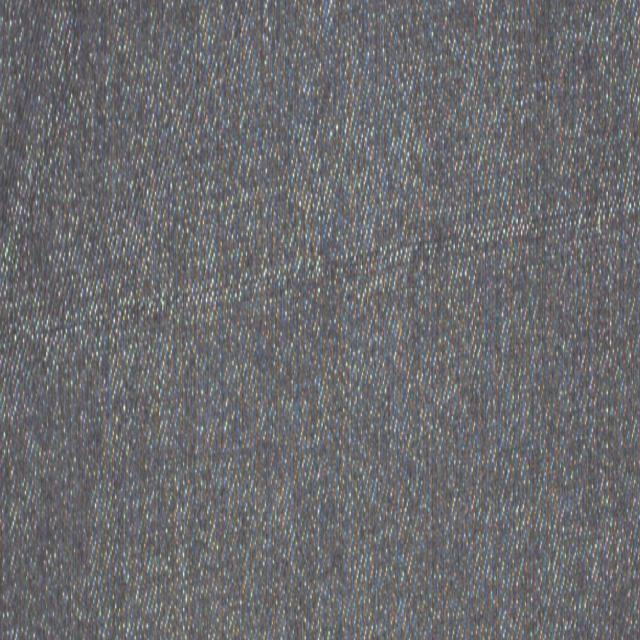Line: (0, 192, 640, 350)
